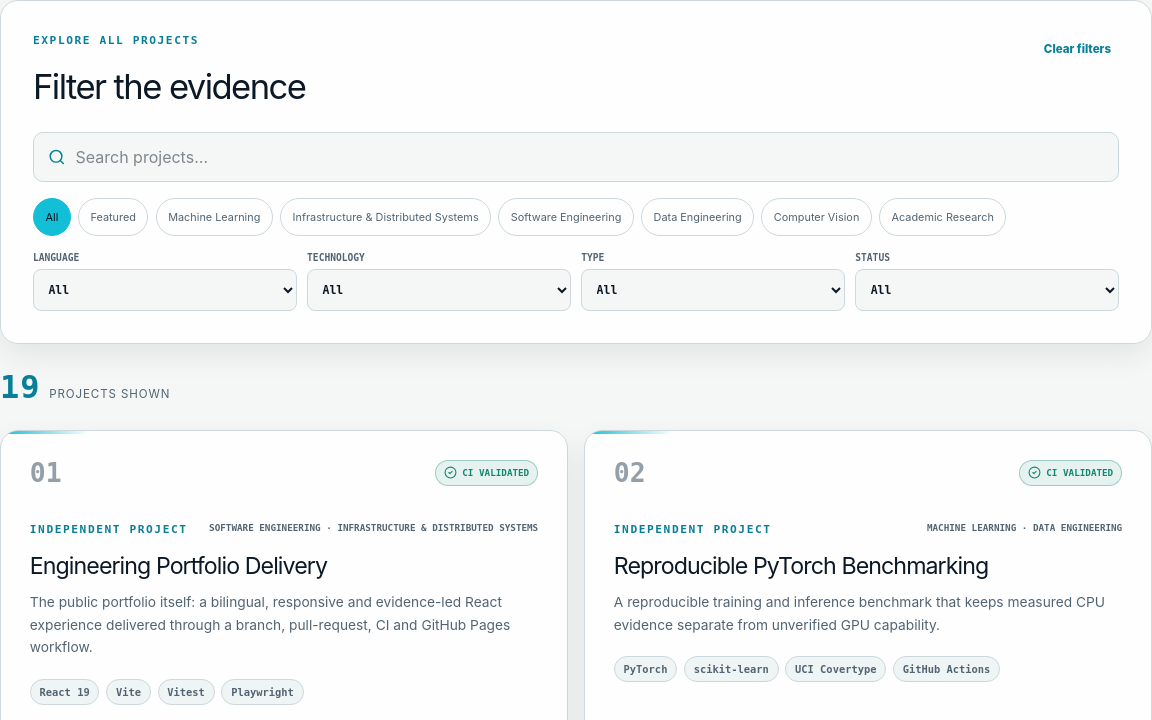
Test: portfolio interactions › includes both new engineering labs without duplicating them
Type "collaboration ops" into the field labelled "Search projects" at (590,157), box [76,133,1104,181]
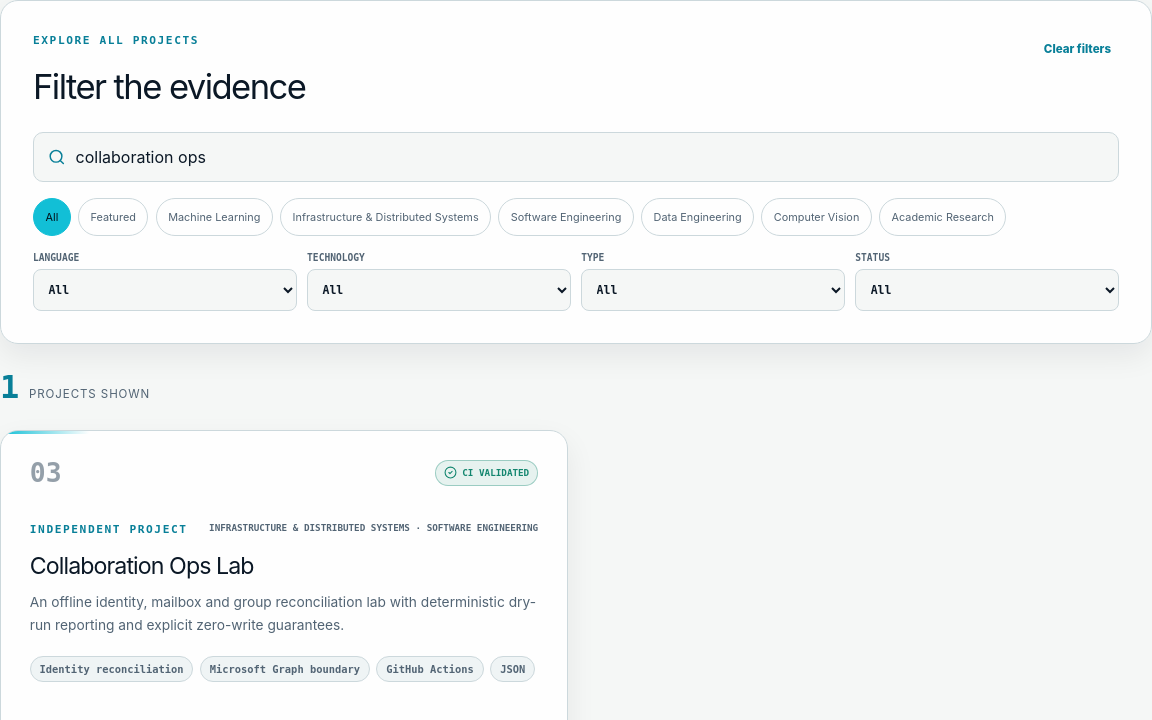
Now the number of headings "Collaboration Ops Lab" is 1, box [30,552,254,580]
Click the button "Clear filters" at (1077,50), box [1036,33,1119,66]
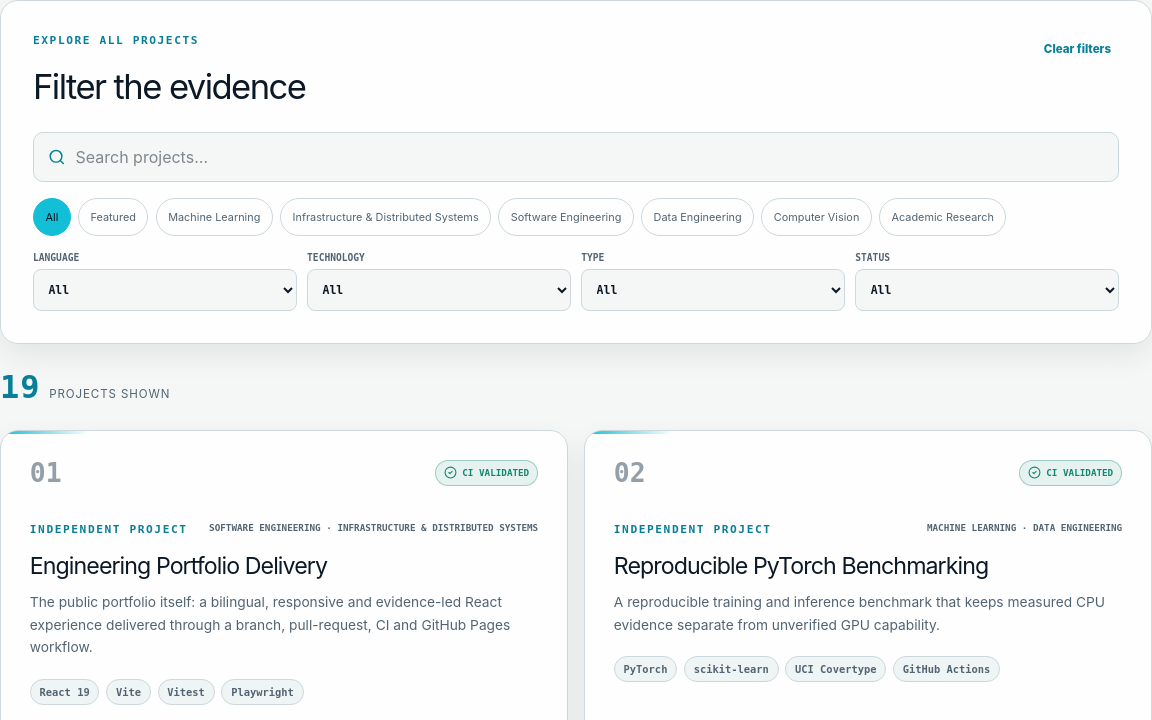
Type "performance evidence" into the field labelled "Search projects" at (590,157), box [76,133,1104,181]
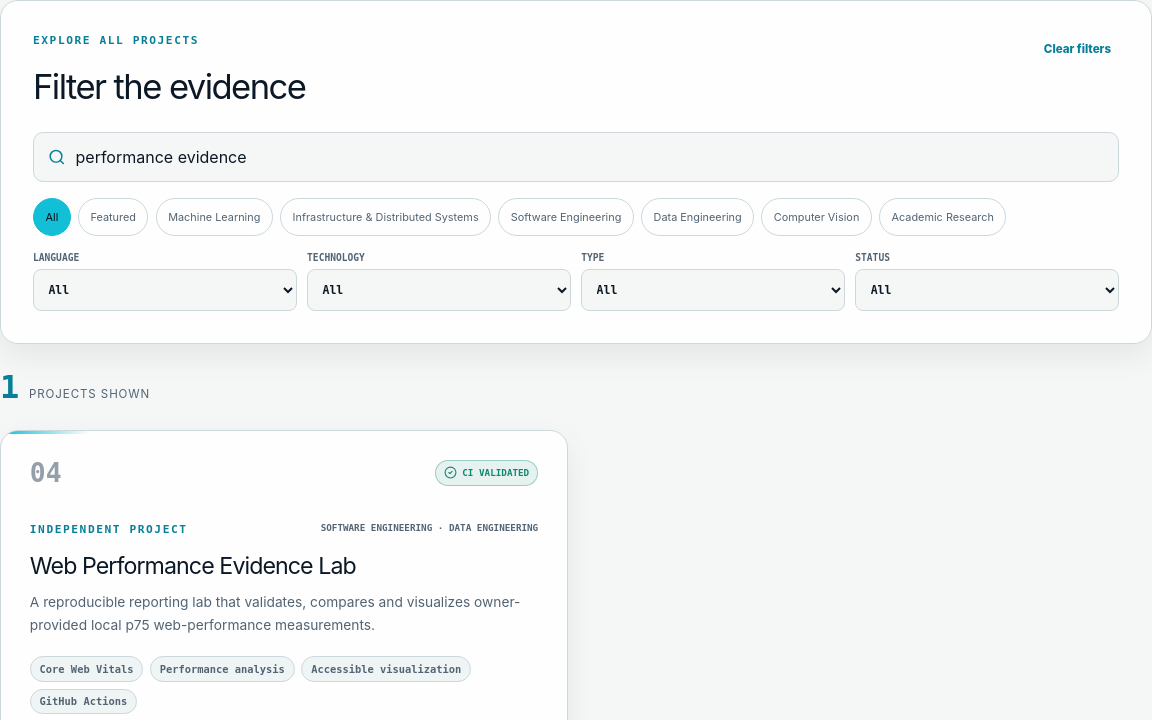
Now the number of headings "Web Performance Evidence Lab" is 1, box [30,552,356,580]
